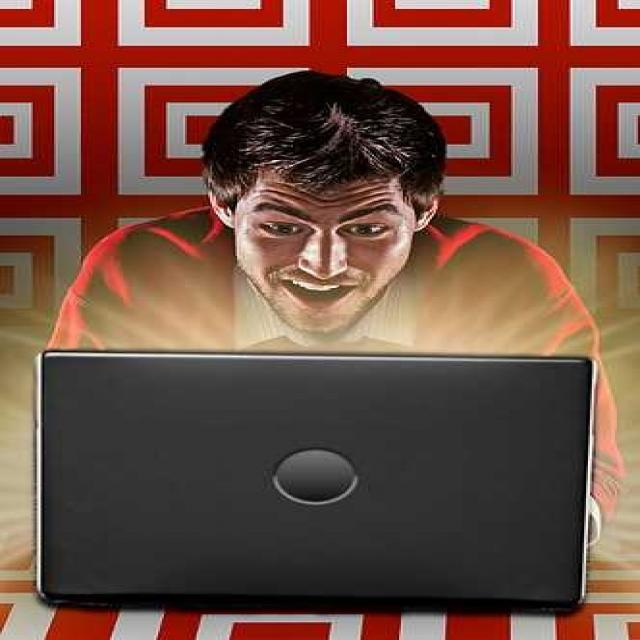laptop: (36, 351, 594, 618)
